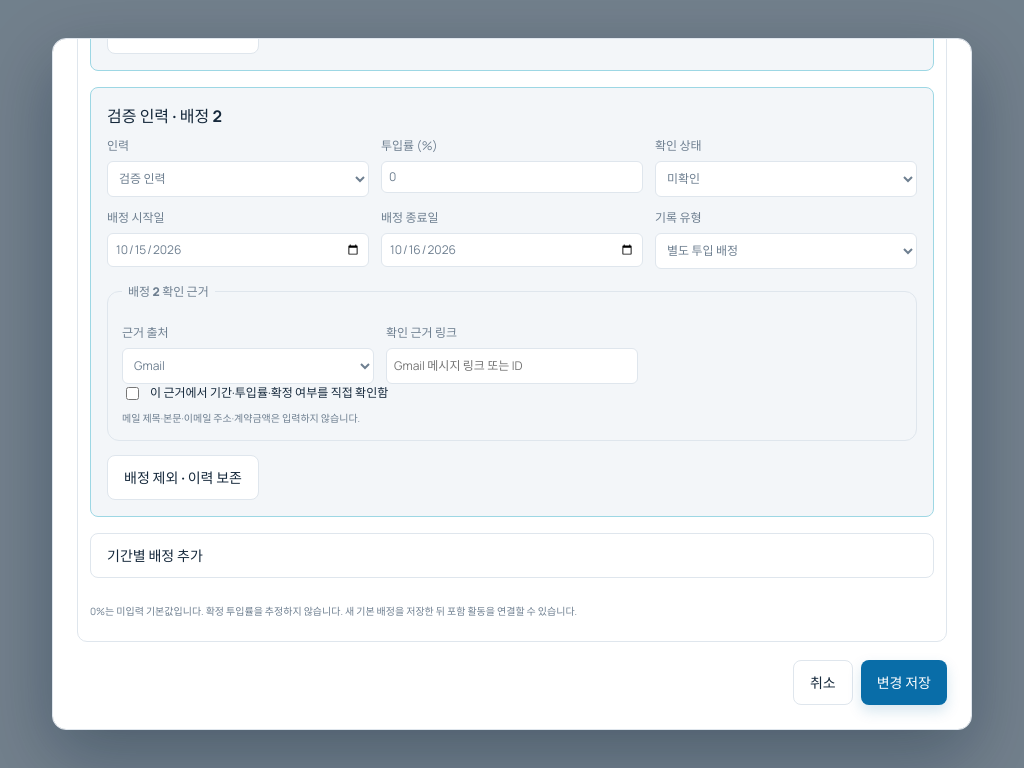
Test: atomic project editing › keeps the dialog and inputs locked while a save is in flight
(page scrolled)
Step 1. Click the button "변경 저장" → (904, 682), box [861,660,947,705]
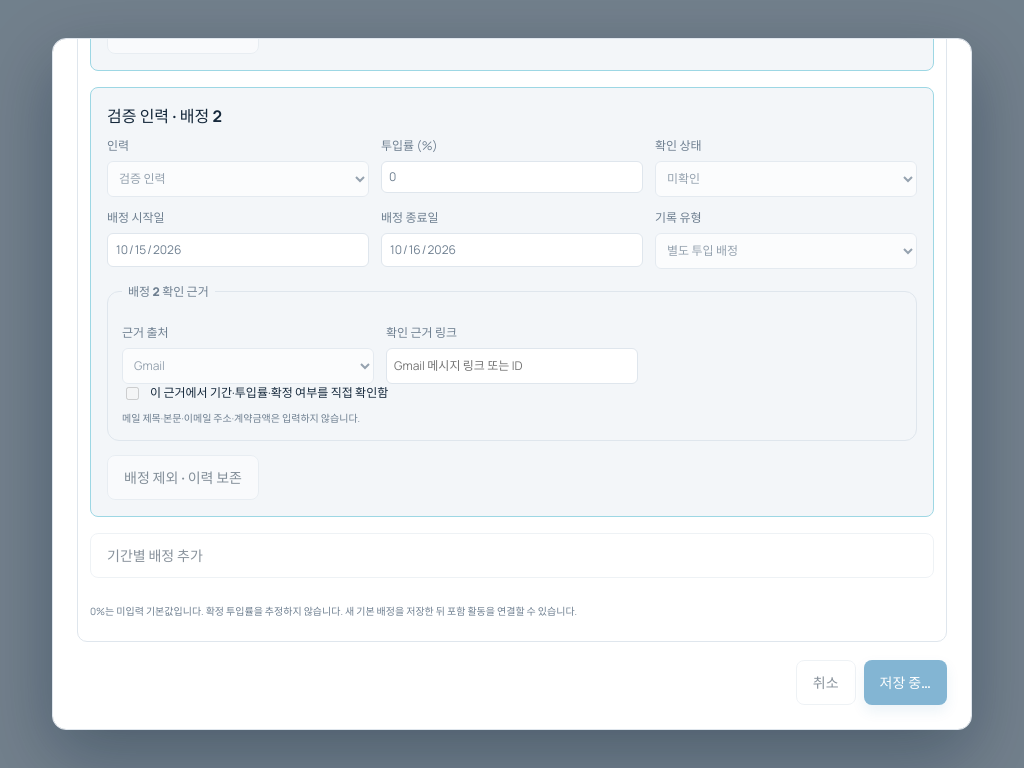
Now the button "저장 중…" is disabled, box [864,660,947,705]
Step 2. Press Escape
(page scrolled)
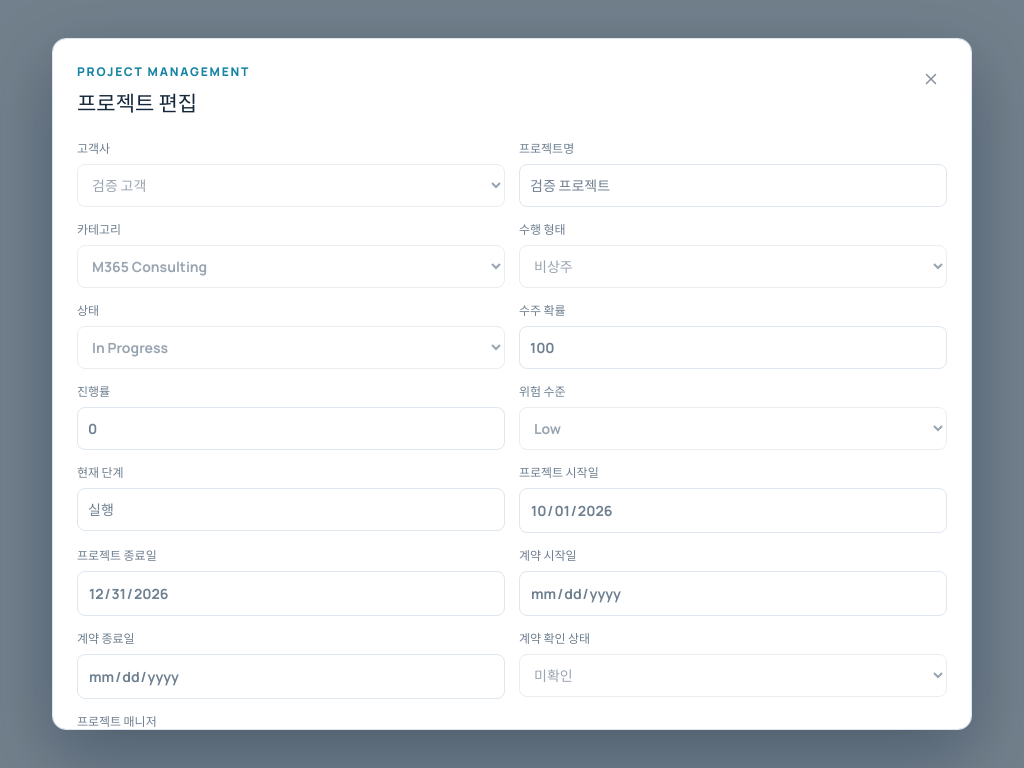
Expected: the field labelled "프로젝트명" is disabled, [519,164,947,207]
Now the button named "닫기" is disabled, box [915,63,947,95]
